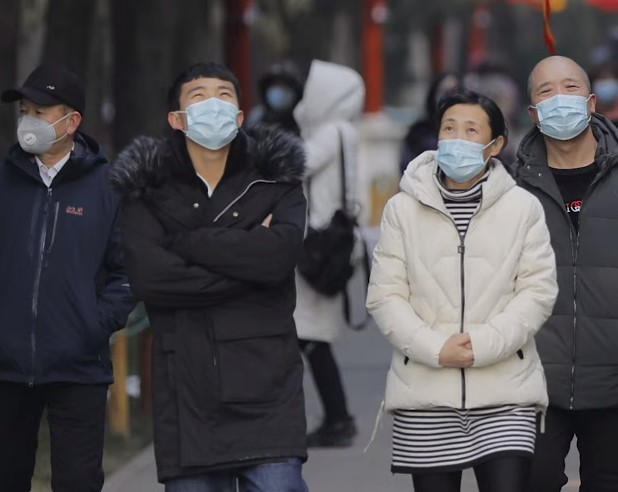face_with_mask: (166, 63, 245, 151), (432, 92, 506, 183), (16, 62, 83, 155), (527, 58, 594, 141)
